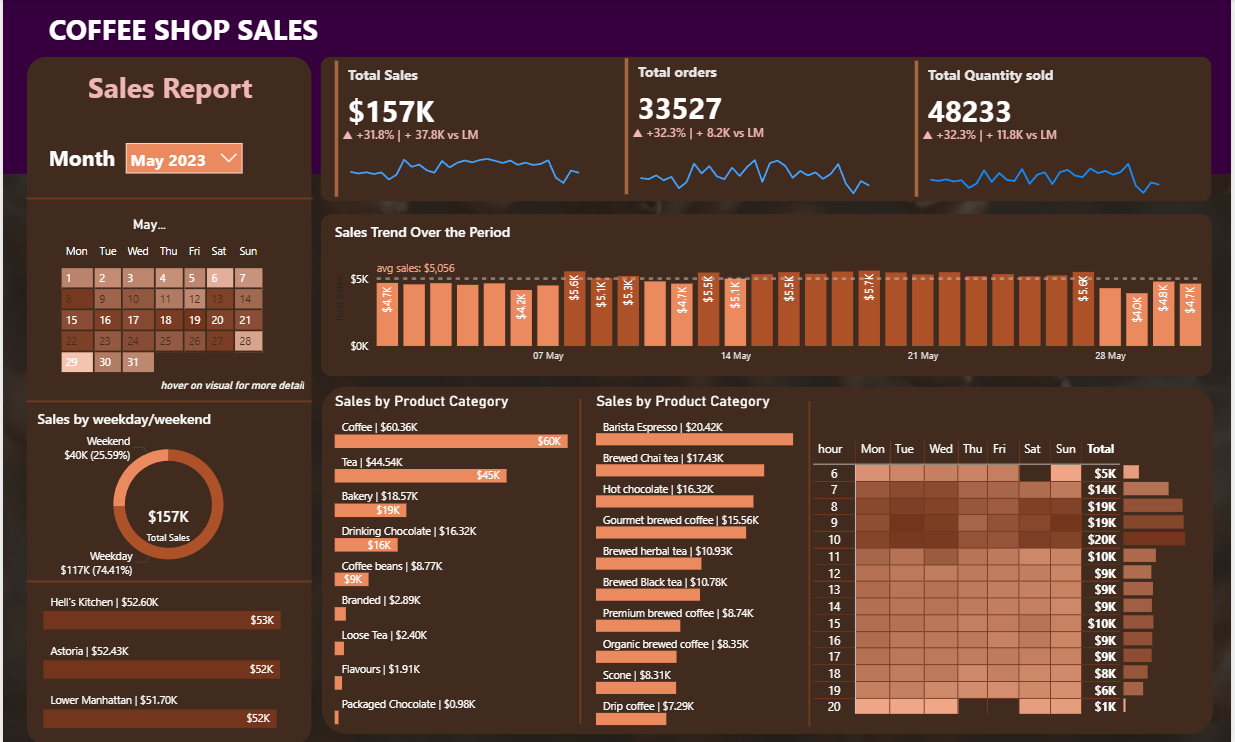

What the dashboard file says about the page in this screenshot:
{"tool":"powerbi","page":{"name":"Page 1","canvas":[1400,850],"ordinal":0},"visuals":[{"type":"shape","box":[0,0,1400.1,199.4],"z":0},{"type":"shape","box":[27.1,65.5,324.7,784.8],"z":1000},{"type":"shape","box":[361.8,65.5,1015.5,165.2],"z":2000},{"type":"textbox","box":[47.7,6.9,339.2,65.4],"z":3000},{"type":"cardVisual","fields":{"Data":["Transactions.Total orders"]},"box":[703.6,62.9,300,165.3],"z":4000,"group":"g2"},{"type":"cardVisual","fields":{"Data":["Transactions.Total Quantity sold"]},"box":[1034.3,65.7,300,165.3],"z":4000,"group":"g3"},{"type":"cardVisual","fields":{"Data":["Transactions.total sales"]},"box":[373,66,300,165.3],"z":4000,"group":"g1"},{"type":"slicer","fields":{"Values":["date table.month year"]},"box":[130,154.3,152.9,57.1],"z":4000},{"type":"lineChart","fields":{"Category":["date table.Date.Variation.Date Hierarchy.Year","date table.Date.Variation.Date Hierarchy.Quarter","date table.Date.Variation.Date Hierarchy.Month","date table.Date.Variation.Date Hierarchy.Day"],"Y":["Transactions.Total orders"]},"box":[712.3,142.2,289.3,86],"z":4502,"group":"g2"},{"type":"lineChart","fields":{"Category":["date table.Date.Variation.Date Hierarchy.Year","date table.Date.Variation.Date Hierarchy.Quarter","date table.Date.Variation.Date Hierarchy.Month","date table.Date.Variation.Date Hierarchy.Day"],"Y":["Transactions.Total Quantity sold"]},"box":[1043,145,289.3,86],"z":4502,"group":"g3"},{"type":"lineChart","fields":{"Y":["Transactions.Total Sales"],"Category":["date table.Date.Variation.Date Hierarchy.Year","date table.Date.Variation.Date Hierarchy.Quarter","date table.Date.Variation.Date Hierarchy.Month","date table.Date.Variation.Date Hierarchy.Day"]},"box":[381.7,145.3,289.3,86],"z":4502,"group":"g1"},{"type":"group","id":"g1","title":"Group 1","box":[373,66,300,166],"z":5000},{"type":"group","id":"g2","title":"Group 1","box":[703.6,62.9,300,165.7],"z":6000},{"type":"group","id":"g3","title":"Group 1","box":[1034.3,65.7,300,165.7],"z":7000},{"type":"pivotTable","fields":{"Columns":["date table.Day name"],"Values":["Min(date table.Day number)"],"Rows":["date table.week number"]},"box":[35,271,308.2,184.5],"z":8000,"group":"g4"},{"type":"cardVisual","fields":{"Data":["Transactions.foot note"]},"box":[162,408,211,59],"z":8000},{"type":"cardVisual","fields":{"Data":["Min(date table.month year)"]},"box":[130.5,221,100,64.5],"z":9000,"group":"g4"},{"type":"shape","box":[27,441,325,34],"z":9000},{"type":"shape","box":[27,211,326,33],"z":10000},{"type":"donutChart","title":" Sales by weekday/weekend","fields":{"Category":["date table.weekday/weekend"],"Y":["Transactions.Total Sales"]},"box":[34,467,309,196],"z":11000},{"type":"card","fields":{"Values":["Transactions.Total Sales"]},"box":[130,572,118,52],"z":12000},{"type":"clusteredBarChart","fields":{"Category":["Transactions.store_location"],"Y":["Transactions.placeholder","Transactions.Total Sales"]},"box":[41,663,309,175],"z":13000},{"type":"group","id":"g4","title":"Group 2","box":[35,221,308,234],"z":14000},{"type":"shape","box":[27,646,325,34],"z":15000},{"type":"shape","box":[361.4,244.3,1015.7,185],"z":16000},{"type":"columnChart","title":"Sales Trend Over the Period","fields":{"Category":["Transactions.transaction_date"],"Y":["Transactions.Total Sales"]},"box":[372.9,252.9,1004.3,170],"z":17000},{"type":"shape","box":[363,441,1016,396],"z":18000},{"type":"clusteredBarChart","title":"Sales by Product Category","fields":{"Y":["Transactions.placeholder","Transactions.Total Sales"],"Category":["Transactions.product_category"]},"box":[373.3,446.7,308.3,385],"z":19000},{"type":"shape","box":[584.4,455.6,147.8,370],"z":20000},{"type":"clusteredBarChart","title":"Sales by Product Category","fields":{"Y":["Transactions.placeholder","Transactions.Total Sales"],"Category":["Transactions.product_type"]},"box":[670.8,447.5,270,385.8],"z":21000},{"type":"shape","box":[845,458.3,148.3,370],"z":22000},{"type":"pivotTable","fields":{"Rows":["Transactions.hour"],"Columns":["date table.Day name"],"Values":["Transactions.Total Sales"]},"box":[919.2,498.3,367.5,330],"z":23000},{"type":"clusteredBarChart","fields":{"Category":["Transactions.hour"],"Y":["Transactions.Total Sales"]},"box":[1271.7,518.3,81.7,299.2],"z":24000},{"type":"textbox","box":[47.1,160,100,44.3],"z":24001},{"type":"textbox","box":[47.1,74.3,287.1,68.6],"z":24002}]}

Visuals, with their boxes in screenshot pixels (x1, y1, x2, y2), scaled from the page's 1400x850 canvas onto the 1235x742 screenshot:
shape: bbox=(0, 0, 1234, 174)
shape: bbox=(24, 57, 310, 741)
shape: bbox=(319, 57, 1215, 201)
textbox: bbox=(42, 6, 341, 63)
cardVisual - Transactions.Total orders: bbox=(621, 55, 885, 199)
cardVisual - Transactions.Total Quantity sold: bbox=(912, 57, 1177, 202)
cardVisual - Transactions.total sales: bbox=(329, 58, 594, 202)
slicer - date table.month year: bbox=(115, 135, 250, 185)
lineChart - date table.Date.Variation.Date Hierarchy.Year x date table.Date.Variation.Date Hierarchy.Quarter: bbox=(628, 124, 884, 199)
lineChart - date table.Date.Variation.Date Hierarchy.Year x date table.Date.Variation.Date Hierarchy.Quarter: bbox=(920, 127, 1175, 202)
lineChart - Transactions.Total Sales x date table.Date.Variation.Date Hierarchy.Year: bbox=(337, 127, 592, 202)
"Group 1" group: bbox=(329, 58, 594, 203)
"Group 1" group: bbox=(621, 55, 885, 200)
"Group 1" group: bbox=(912, 57, 1177, 202)
pivotTable - date table.Day name x Min(date table.Day number): bbox=(31, 237, 303, 398)
cardVisual - Transactions.foot note: bbox=(143, 356, 329, 408)
cardVisual - Min(date table.month year): bbox=(115, 193, 203, 249)
shape: bbox=(24, 385, 311, 415)
shape: bbox=(24, 184, 311, 213)
" Sales by weekday/weekend" donutChart: bbox=(30, 408, 303, 579)
card - Transactions.Total Sales: bbox=(115, 499, 219, 545)
clusteredBarChart - Transactions.store_location x Transactions.placeholder: bbox=(36, 579, 309, 732)
"Group 2" group: bbox=(31, 193, 303, 397)
shape: bbox=(24, 564, 311, 594)
shape: bbox=(319, 213, 1215, 375)
"Sales Trend Over the Period" columnChart: bbox=(329, 221, 1215, 369)
shape: bbox=(320, 385, 1216, 731)
"Sales by Product Category" clusteredBarChart: bbox=(329, 390, 601, 726)
shape: bbox=(516, 398, 646, 721)
"Sales by Product Category" clusteredBarChart: bbox=(592, 391, 830, 727)
shape: bbox=(745, 400, 876, 723)
pivotTable - Transactions.hour x date table.Day name: bbox=(811, 435, 1135, 723)
clusteredBarChart - Transactions.hour x Transactions.Total Sales: bbox=(1122, 452, 1194, 714)
textbox: bbox=(42, 140, 130, 178)
textbox: bbox=(42, 65, 295, 125)
